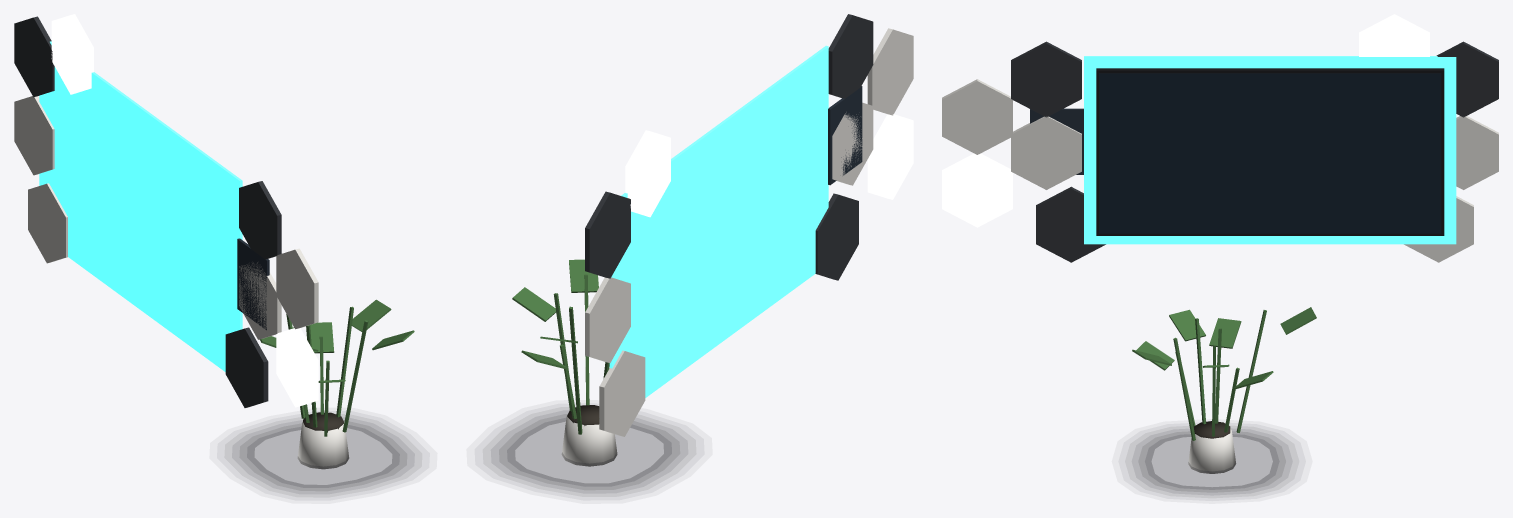
Rendered from Arcade_TV_Wall.glb.
3 views of the same model, side by side, from view 1: azimuth 30°, elevation 25°; view 2: azimuth 150°, elevation 25°; view 3: azimuth 270°, elevation 25° (orthographic). The views are drawn at different scales.
Visible parts, largest first — view 1: root; view 2: root; view 3: root.
Part boxes in pixels (box(x1,y1,x2,y2)): root: box(14, 14, 422, 497); root: box(482, 14, 913, 496); root: box(942, 14, 1498, 498).
Bounding box in the file's own units: 1.47 × 2.31 × 3.07.
